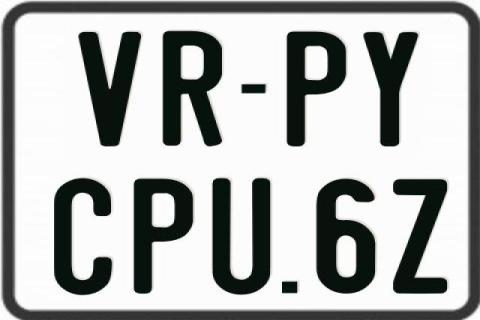0: (314, 178, 378, 296)
C: (54, 177, 114, 295)
P: (134, 178, 198, 294), (284, 31, 345, 150)
R: (161, 32, 224, 152)
U: (211, 178, 272, 298)
V: (77, 30, 144, 146)
Y: (363, 29, 421, 145)
Z: (390, 179, 448, 295)
